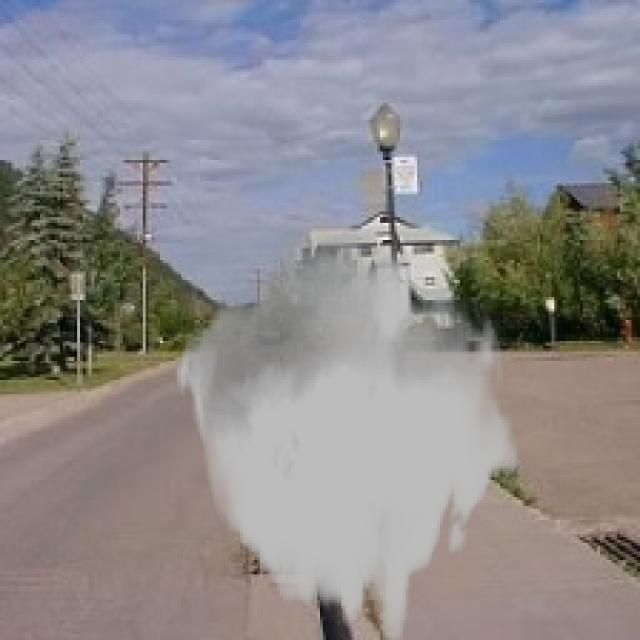Smoke: (174, 225, 523, 638)
